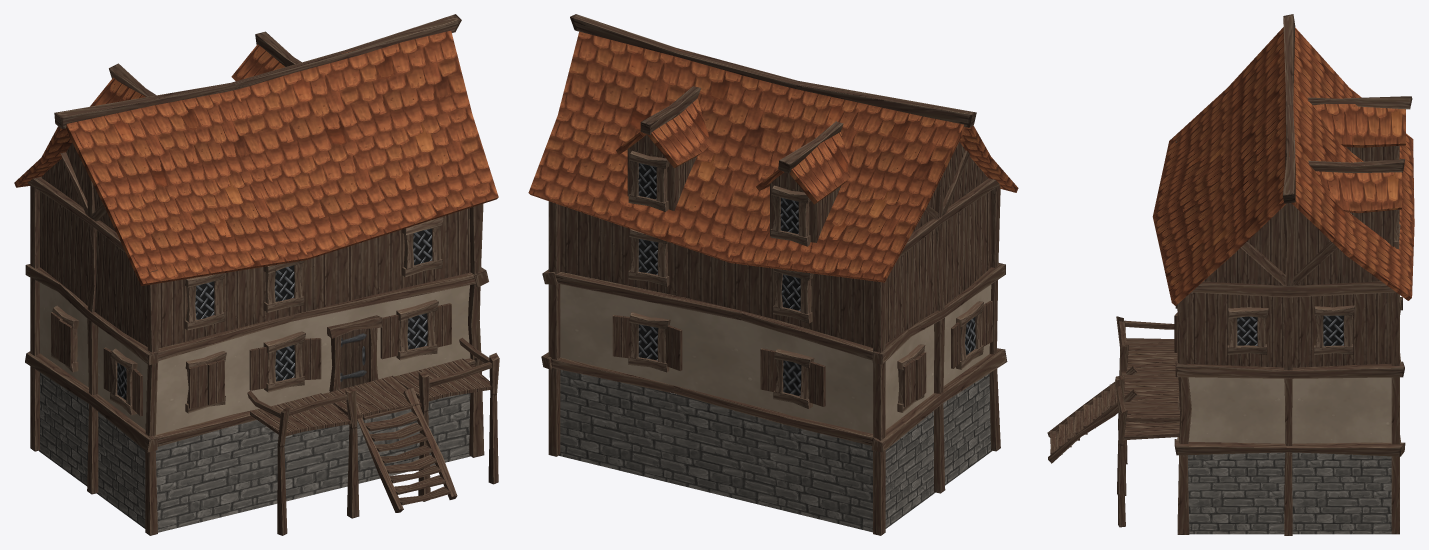
The model's file is tavern_01.fbx.
3 views of the same model, side by side, from view 1: azimuth 30°, elevation 25°; view 2: azimuth 150°, elevation 25°; view 3: azimuth 270°, elevation 25° (orthographic). The views are drawn at different scales.
Parts seen in each view (by area): view 1: tavern_01; view 2: tavern_01; view 3: tavern_01.
Part boxes in pixels (x1=…): tavern_01: x1=14, y1=14, x2=499, y2=535; tavern_01: x1=528, y1=14, x2=1018, y2=535; tavern_01: x1=1047, y1=14, x2=1414, y2=535.
Bounding box in the file's own units: 999 × 922 × 857.
